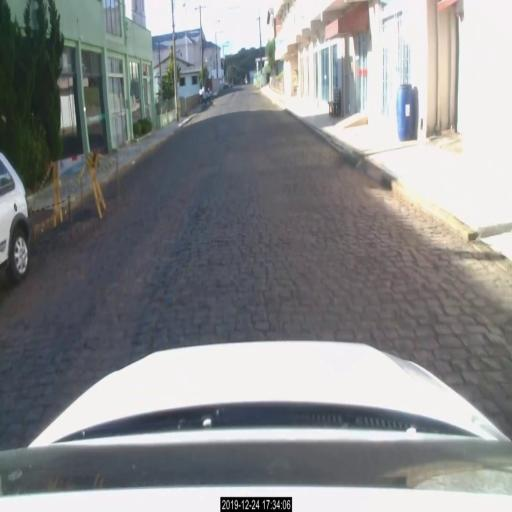Pothole: (42, 201, 113, 235)
